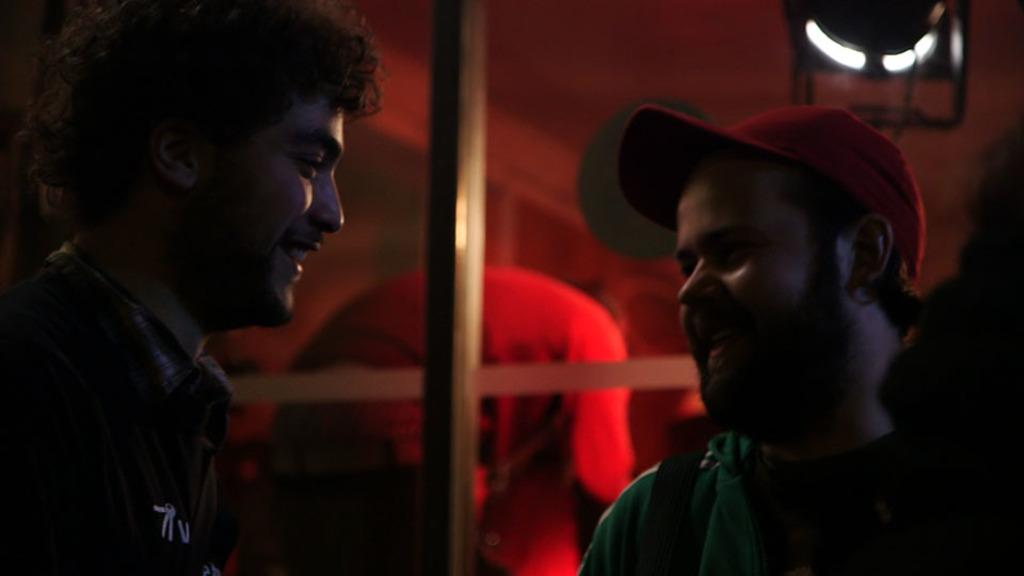Hat: (618, 97, 924, 283)
